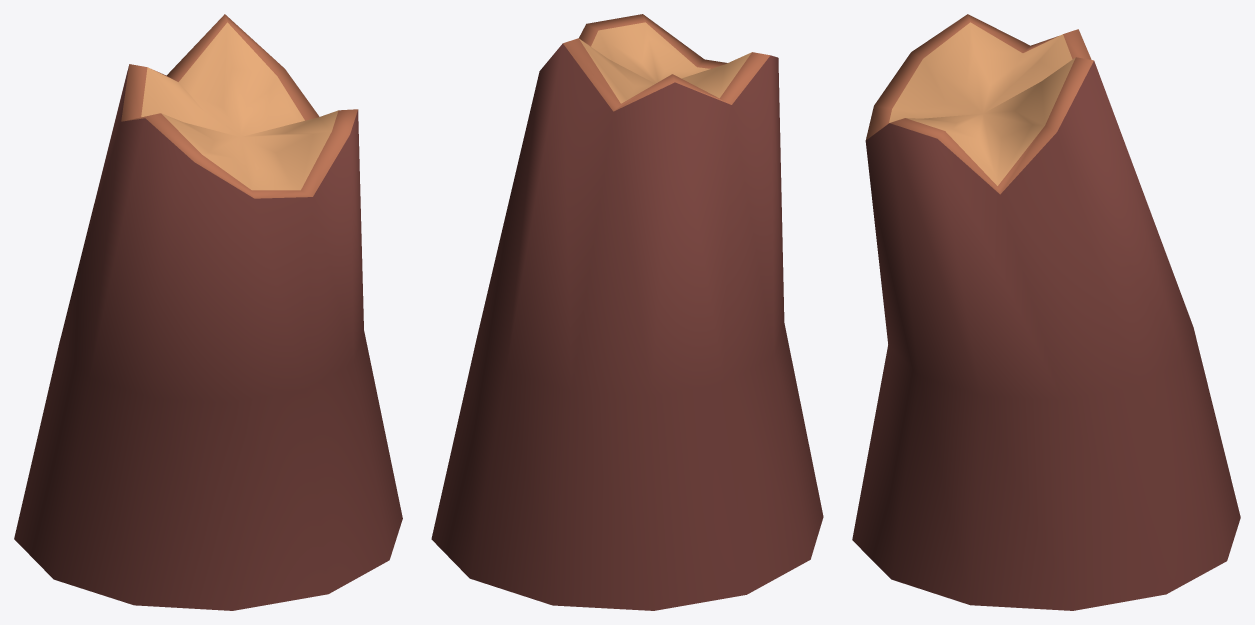
File: ArbolCortado_01.fbx
3 views of the same model, side by side, from view 1: azimuth 30°, elevation 25°; view 2: azimuth 150°, elevation 25°; view 3: azimuth 270°, elevation 25° (orthographic).
Visible parts, largest first — view 1: ArbolCortado_01; view 2: ArbolCortado_01; view 3: ArbolCortado_01.
Boxes of the visible parts, left/top/right/bottom form: ArbolCortado_01: left=14, top=14, right=402, bottom=610; ArbolCortado_01: left=431, top=14, right=823, bottom=610; ArbolCortado_01: left=852, top=14, right=1240, bottom=610.
Bounding box in the file's own units: 327 × 454 × 327.
